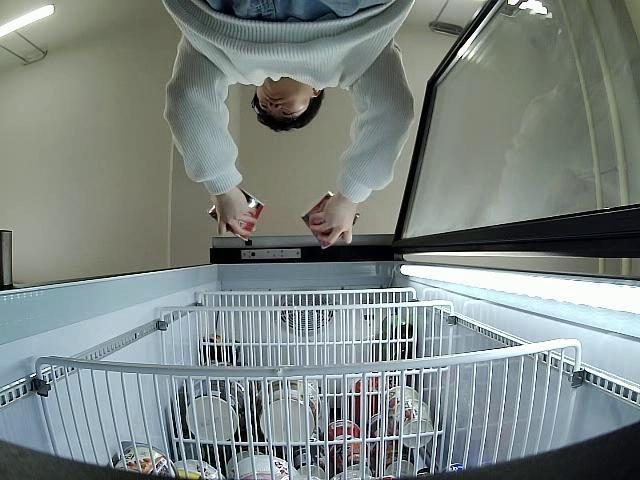01_ShinRamen_L: (208, 187, 266, 243), (305, 190, 359, 249)
